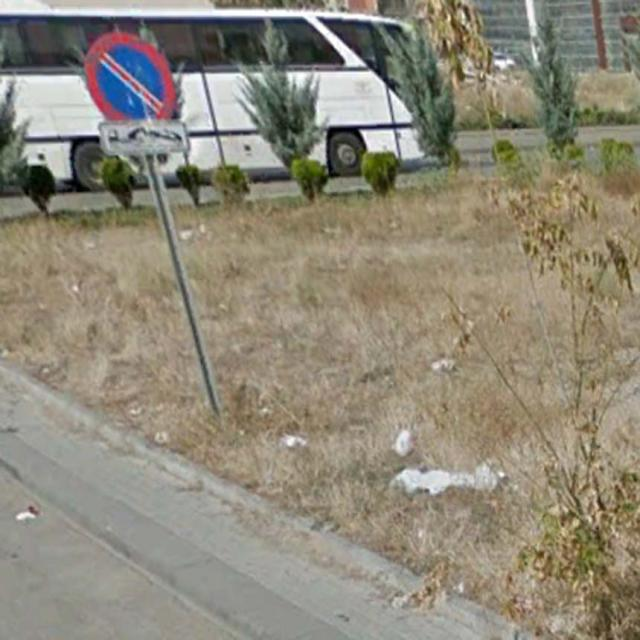parkyasak: (84, 34, 174, 130)
